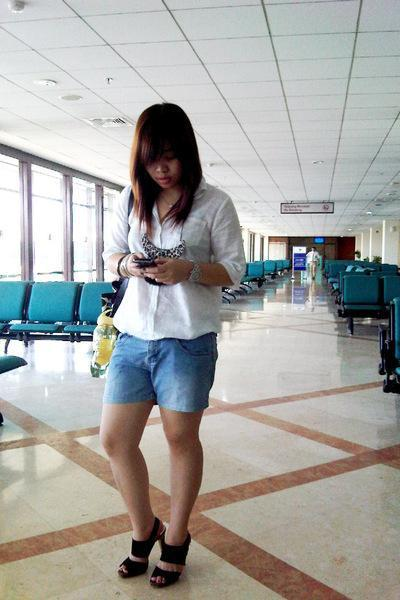shirt: (94, 174, 251, 340)
shoe: (118, 528, 190, 588)
shorts: (113, 332, 217, 419)
